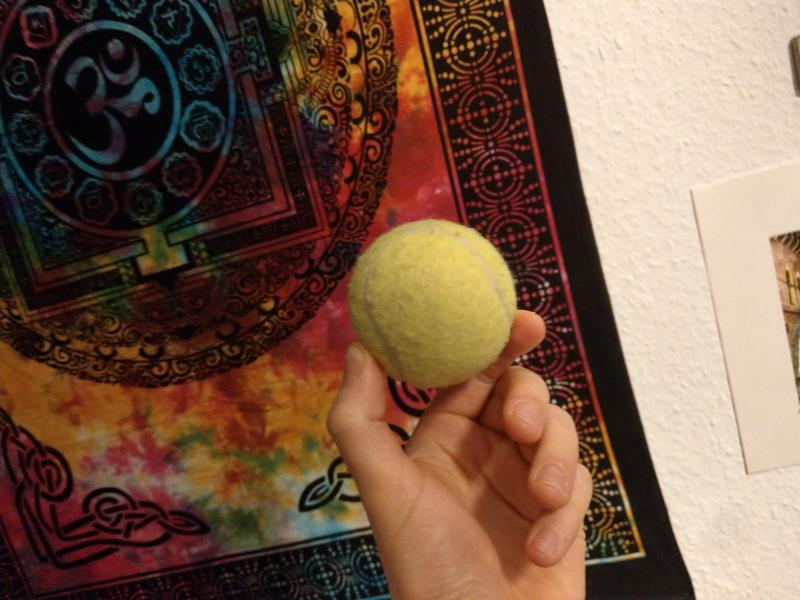Tennisball: (343, 214, 514, 394)
